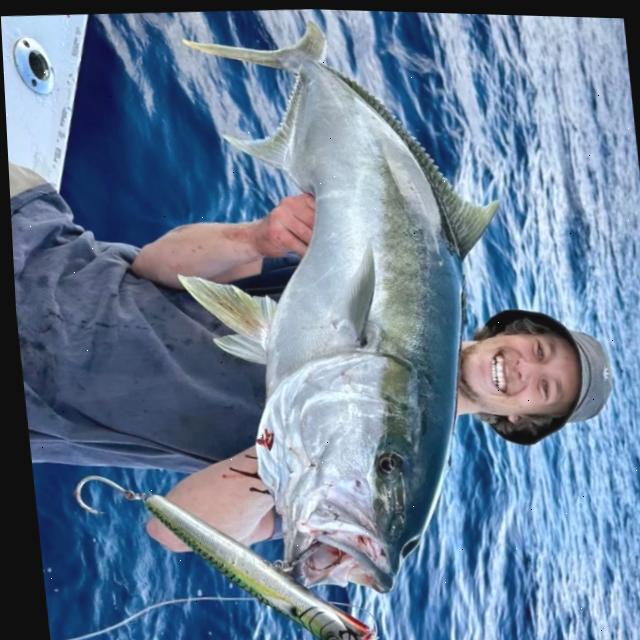Kingfish: (145, 3, 541, 605)
